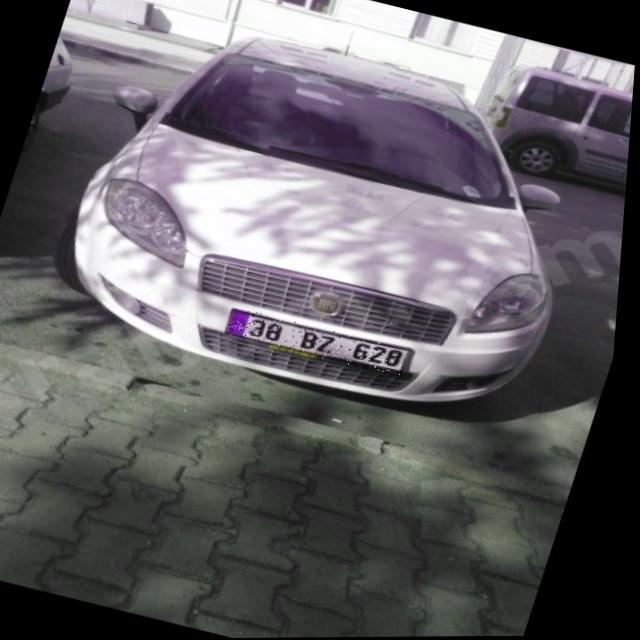license_plate: (226, 305, 418, 379)
